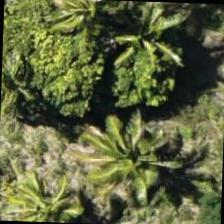Kelapa_Sawit: (80, 110, 173, 203), (116, 0, 209, 92), (0, 152, 82, 223), (26, 0, 119, 51)
